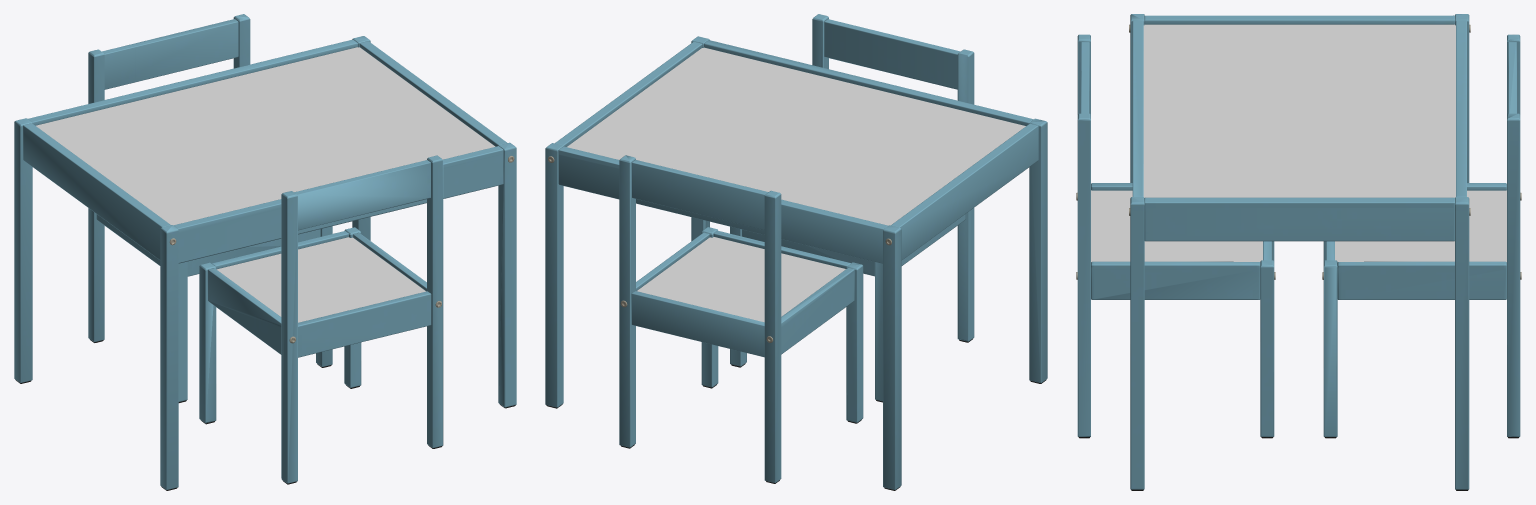
The model's file is kids_table_abo_B07YBHC881.glb.
The picture shows the model from 3 angles, left to right: view 1: azimuth 30°, elevation 25°; view 2: azimuth 150°, elevation 25°; view 3: azimuth 270°, elevation 25°; orthographic projection. The views are drawn at different scales.
Visible parts, largest first — view 1: RootNode; view 2: RootNode; view 3: RootNode.
Part boxes in pixels (x1,y1,x2,y2): RootNode: [14, 14, 516, 490]; RootNode: [545, 14, 1047, 490]; RootNode: [1076, 14, 1521, 490].
Bounding box in the file's own units: 0.6395 × 0.5028 × 0.6334.
Materials: 1 (1 with a texture image).
